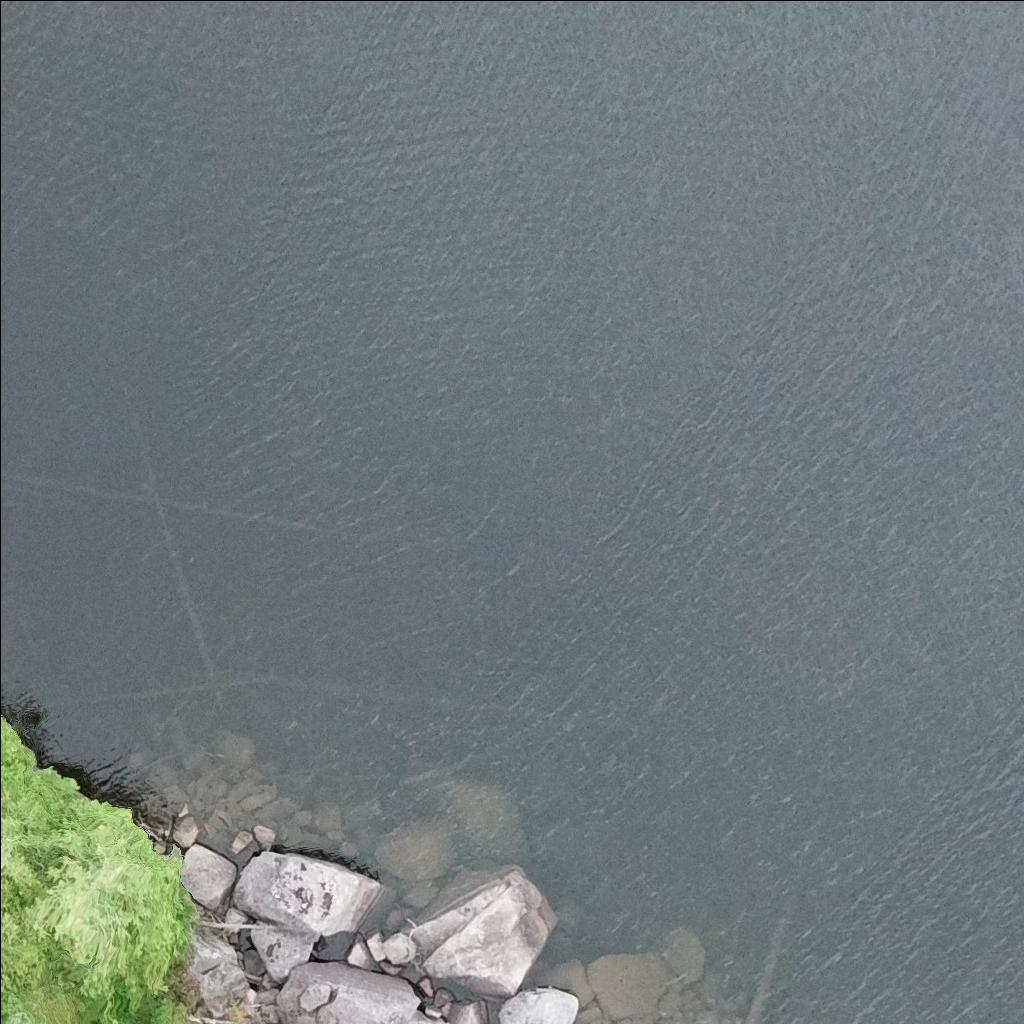crown: (26, 809, 181, 1009), (0, 806, 63, 906), (0, 877, 56, 988), (0, 715, 35, 807), (0, 983, 61, 1023)
